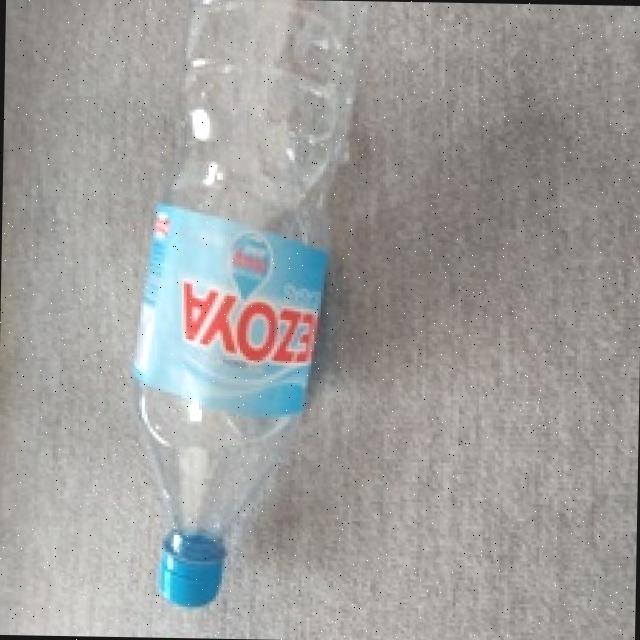bottle: (96, 0, 339, 622)
cap: (158, 540, 223, 606)
label: (131, 202, 333, 418)
